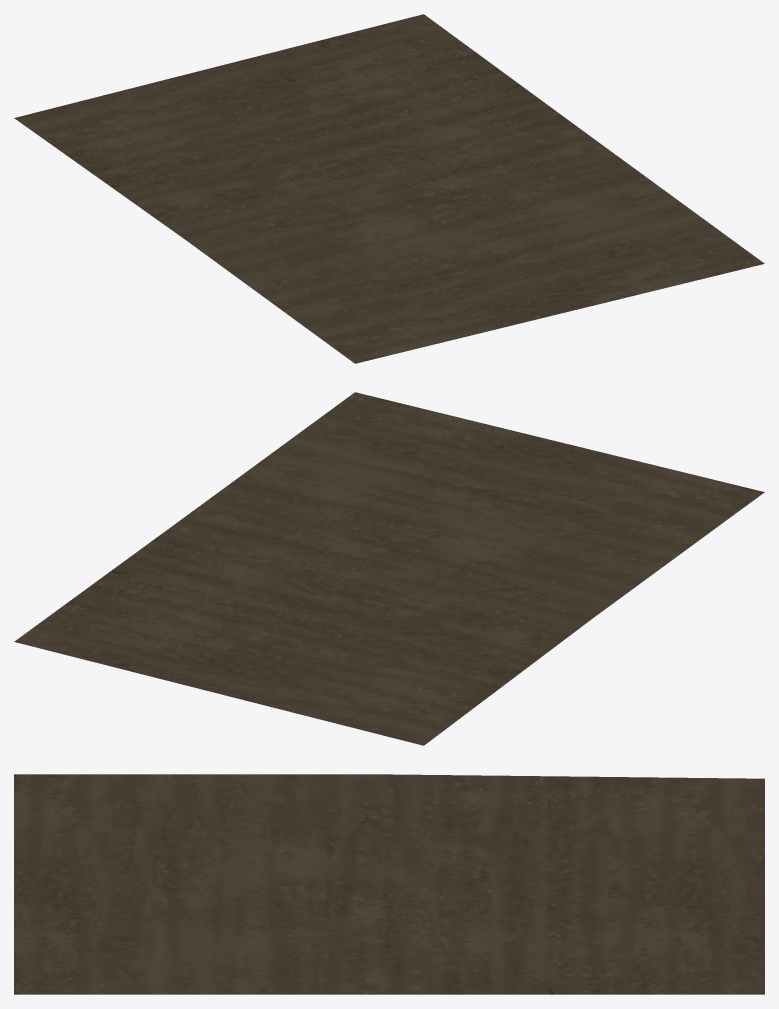
File: blend_path10.fbx
3 views of the same model, one above another, from view 1: azimuth 30°, elevation 25°; view 2: azimuth 150°, elevation 25°; view 3: azimuth 270°, elevation 25° (orthographic). The views are drawn at different scales.
Parts seen in each view (by area): view 1: new_stone/path_left_shadow; view 2: new_stone/path_left_shadow; view 3: new_stone/path_left_shadow.
Part boxes in pixels (left/top/right/bottom): new_stone/path_left_shadow: left=14, top=14, right=764, bottom=363; new_stone/path_left_shadow: left=14, top=392, right=764, bottom=745; new_stone/path_left_shadow: left=14, top=774, right=764, bottom=994.
Bounding box in the file's own units: 3.71 × 0.0342 × 5.35.
